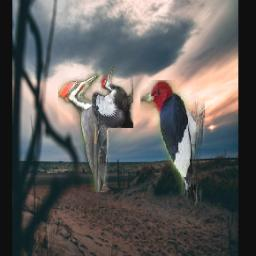Woodpecker: (141, 81, 206, 208), (59, 75, 111, 193), (93, 66, 134, 129)
